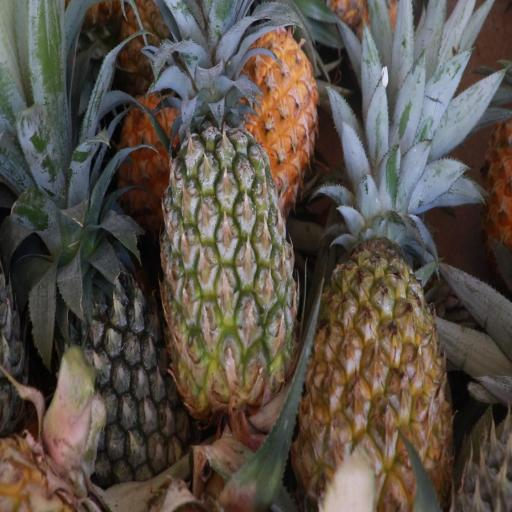------------------------------: (162, 118, 292, 408)
Pineapple - v8 v1: (298, 179, 448, 512), (156, 11, 316, 172)
